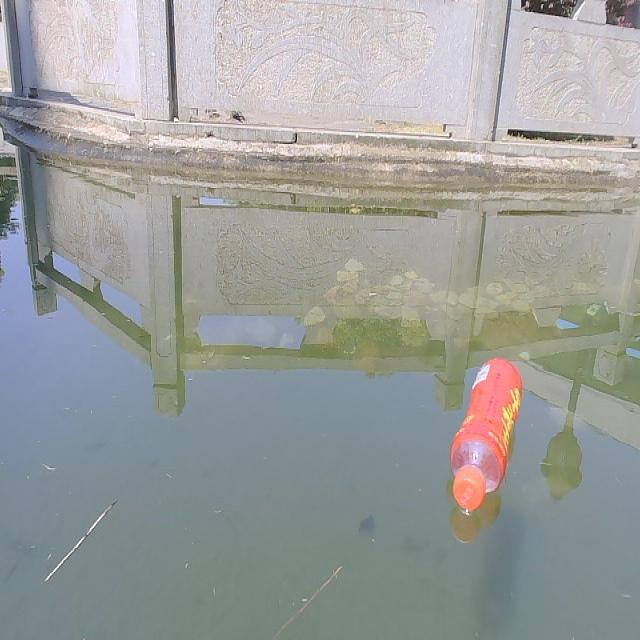Bottle: (444, 354, 527, 514)
